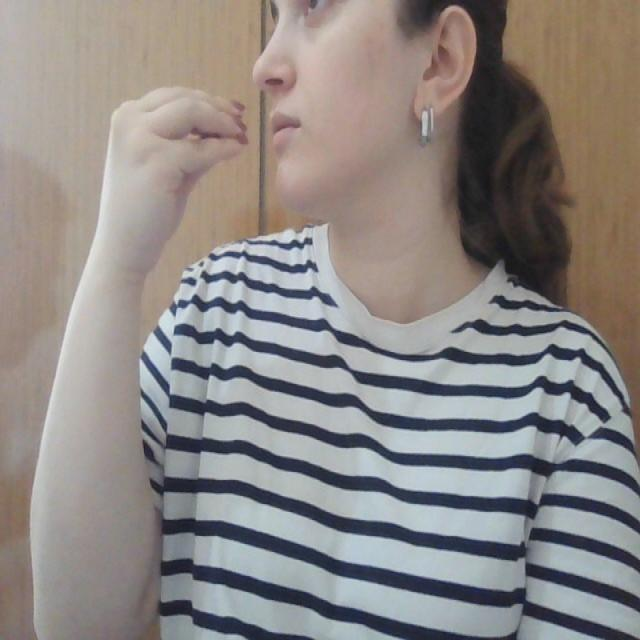Yemek: (106, 82, 297, 159)
